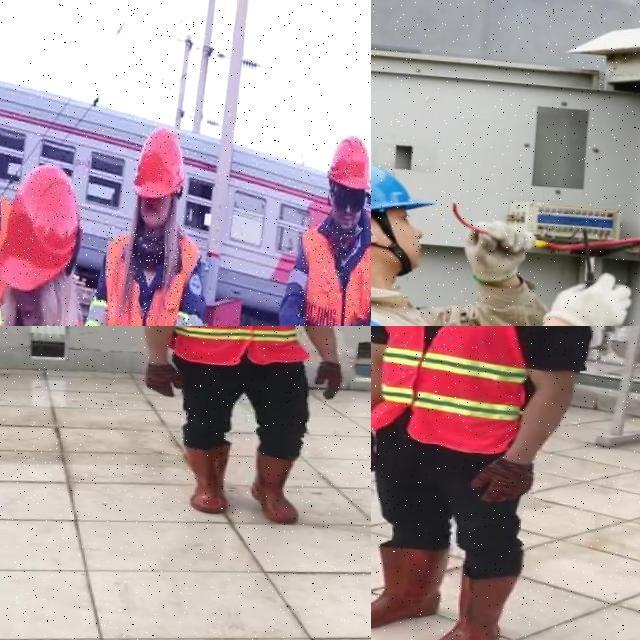boots: (371, 540, 449, 636), (423, 570, 515, 640), (242, 450, 310, 522), (177, 442, 234, 514)
helmet: (0, 163, 82, 290), (371, 135, 449, 247), (133, 128, 190, 198), (325, 136, 371, 191)
vest: (371, 326, 541, 455), (92, 224, 203, 326), (294, 220, 371, 326), (168, 326, 311, 366)
